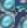mirror: (0, 12, 15, 28), (0, 0, 15, 12)
